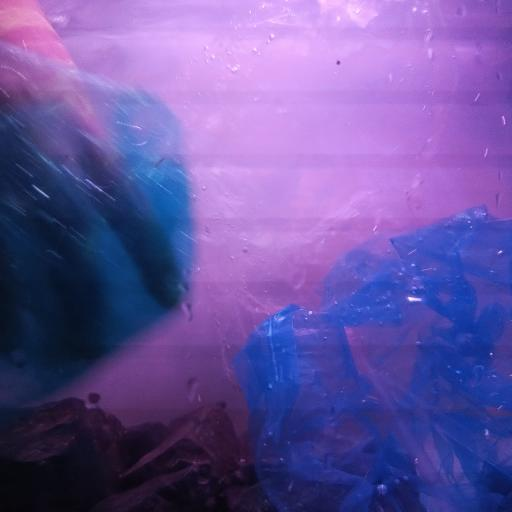plastic_bag: (231, 213, 512, 509), (0, 51, 215, 395), (210, 0, 464, 210)
